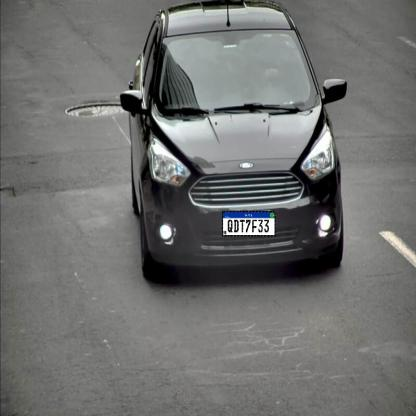PlacaM: (222, 211, 276, 236)
